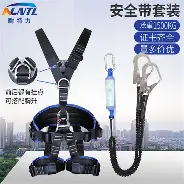safety belt: (23, 24, 108, 178)
